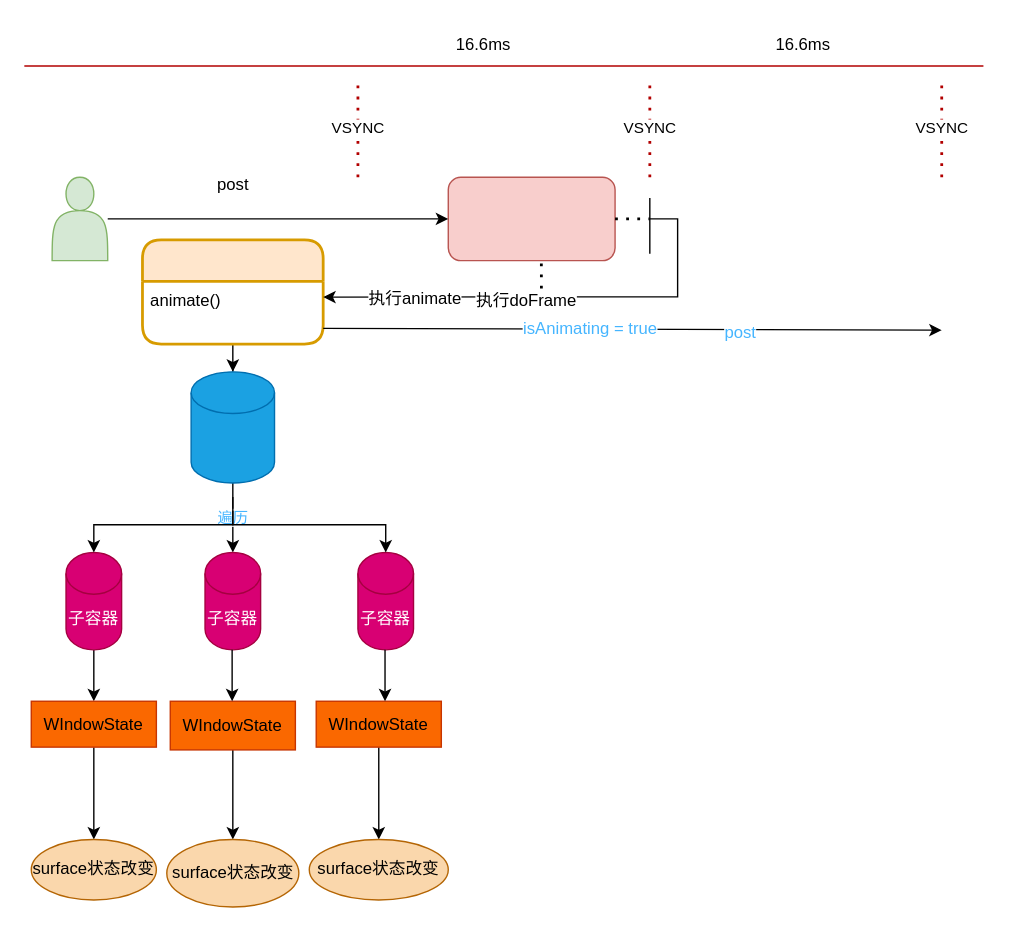
This 1009x931 diagram has some shape labels left out. Here are the shapes that lost their labels. From the top down, the box of each, then its label:
(447, 176, 615, 261): Choreographer
(140, 238, 324, 345): FrameCallBack
(190, 370, 275, 483): 容器
